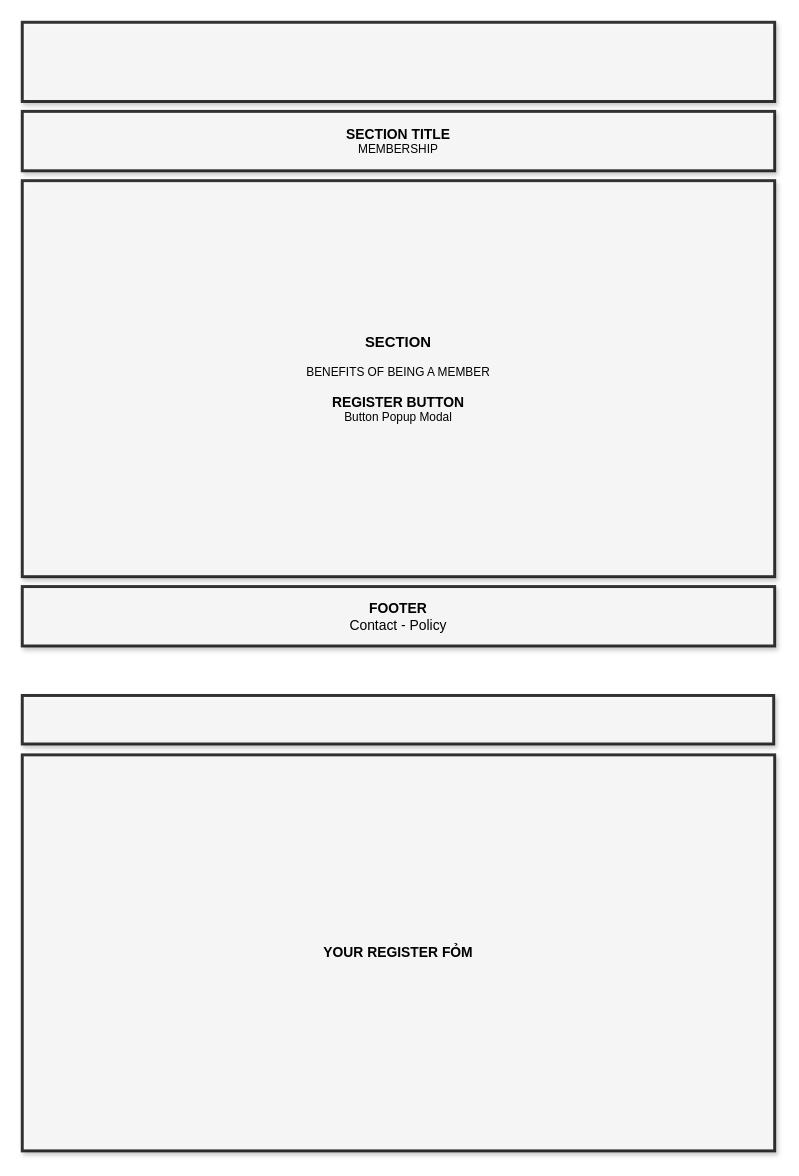
Some shapes in this 799 by 1176 pixel diagram are drawn without their labels. Here are the shapes that lost their labels. From the top down, the centre of each, then its label:
point (399, 62): HEADER (LOGO & NAVIGATION LINKS)
point (398, 721): MODAL (REGISTER FORM)
